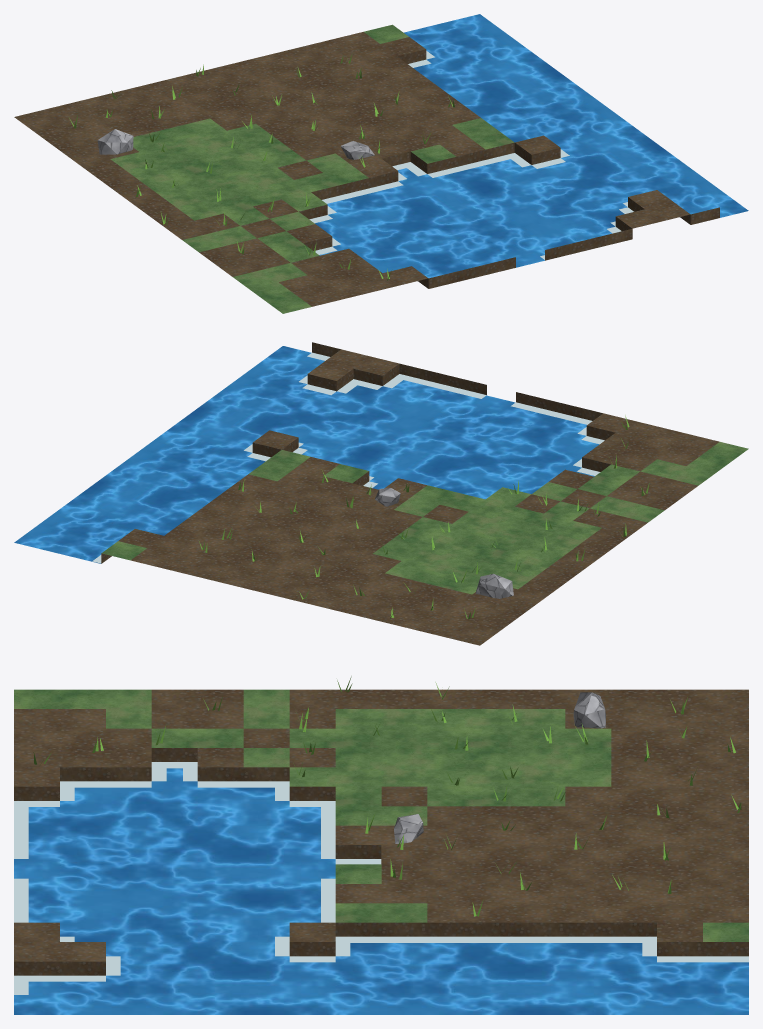
The model's file is chunk_2_15.glb.
The picture shows the model from 3 angles, top to bottom: view 1: azimuth 30°, elevation 25°; view 2: azimuth 150°, elevation 25°; view 3: azimuth 270°, elevation 25°; orthographic projection. The views are drawn at different scales.
Parts seen in each view (by area): view 1: chunk_2_15; view 2: chunk_2_15; view 3: chunk_2_15.
Part boxes in pixels (<box>): chunk_2_15: <box>14,14,748,313</box>; chunk_2_15: <box>14,342,748,645</box>; chunk_2_15: <box>14,676,748,1014</box>.
Size of the model in its own units: 16 by 1.06 by 16.
Materials: 6 (4 with a texture image).
